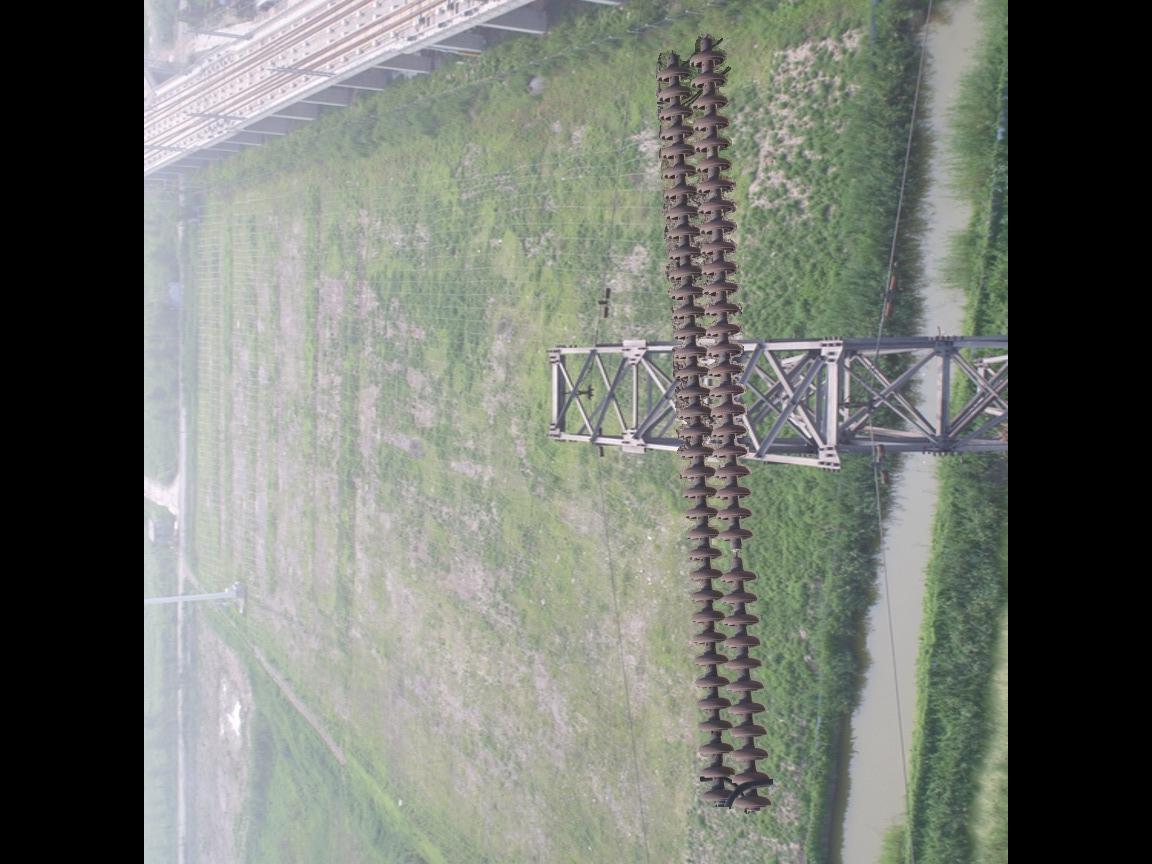insulator: (649, 42, 778, 817)
insulator_stringdrop: (716, 525, 761, 588)
